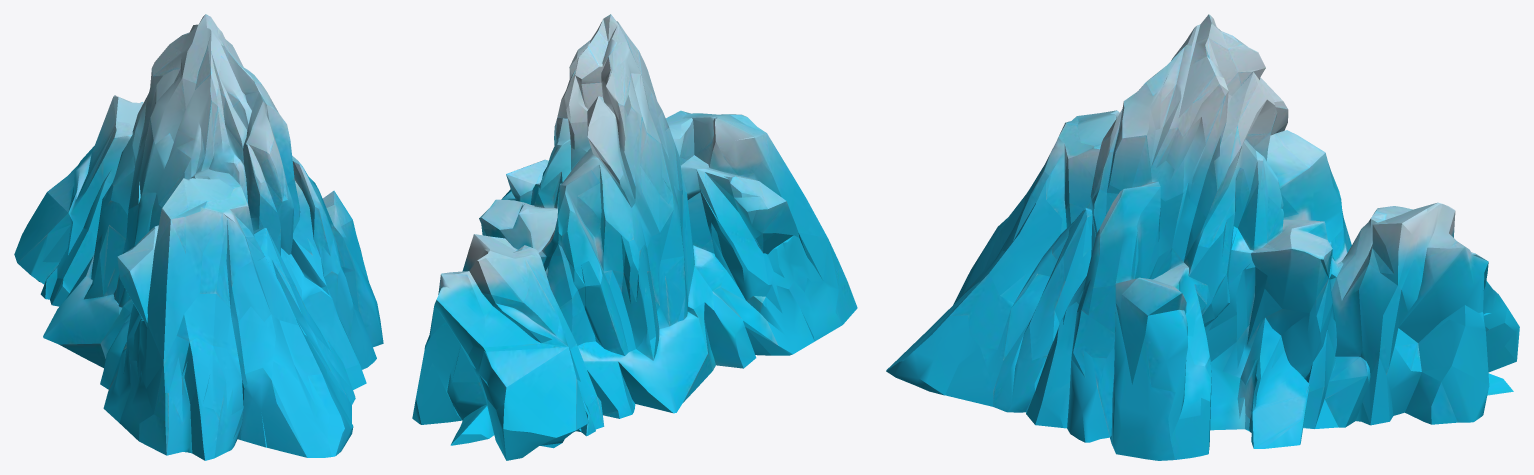
The model's file is iceberg_spire.glb.
3 views of the same model, side by side, from view 1: azimuth 30°, elevation 25°; view 2: azimuth 150°, elevation 25°; view 3: azimuth 270°, elevation 25° (orthographic). The views are drawn at different scales.
Size of the model in its own units: 1.14 by 1.22 by 1.9.
Materials: 1 (1 with a texture image).
